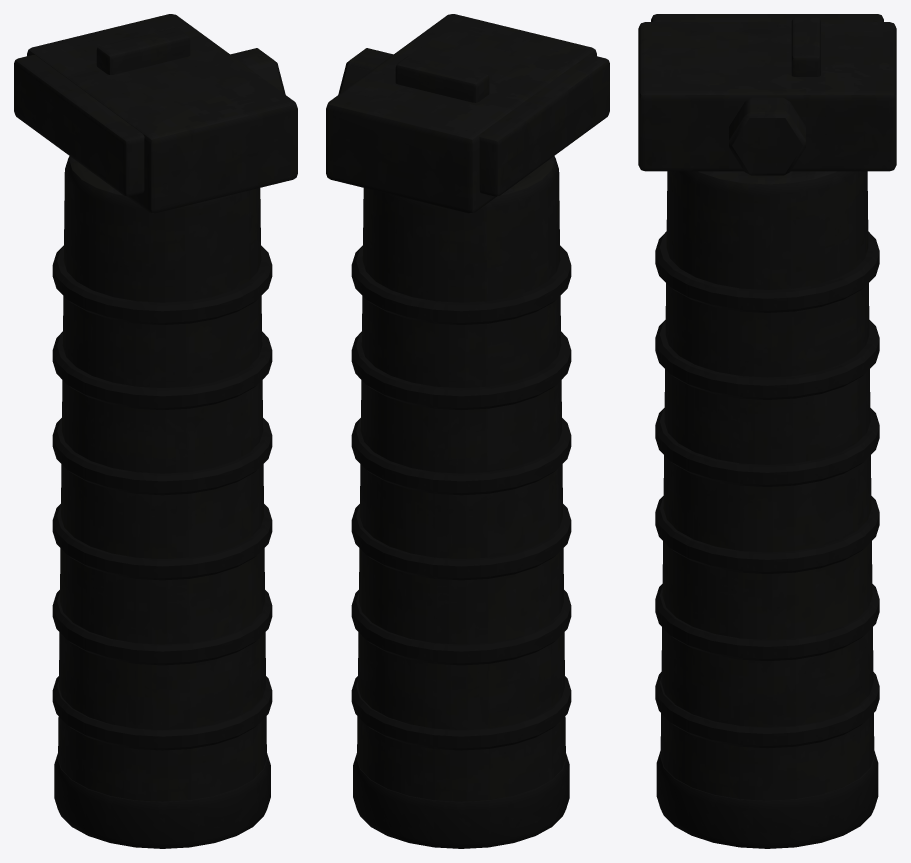
The model's file is vertical.gltf.
3 renders of one model, left to right at view 1: azimuth 30°, elevation 25°; view 2: azimuth 150°, elevation 25°; view 3: azimuth 270°, elevation 25°, orthographic. The views are drawn at different scales.
Parts seen in each view (by area): view 1: Body; view 2: Body; view 3: Body.
Boxes of the visible parts, box(x1,y1,x2,y2) form: Body: box(14, 14, 297, 848); Body: box(326, 14, 609, 848); Body: box(638, 14, 896, 848).
Size of the model in its own units: 0.0322 by 0.115 by 0.035.
Materials: 2 (2 with a texture image).
